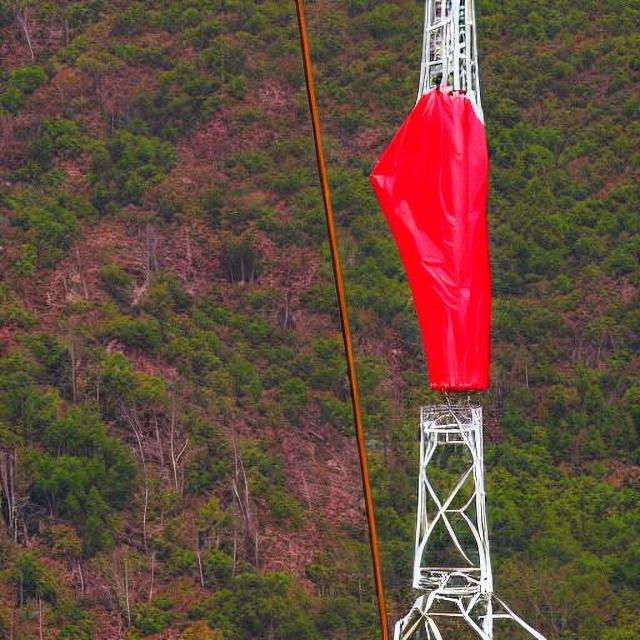floating object: (367, 77, 492, 386)
